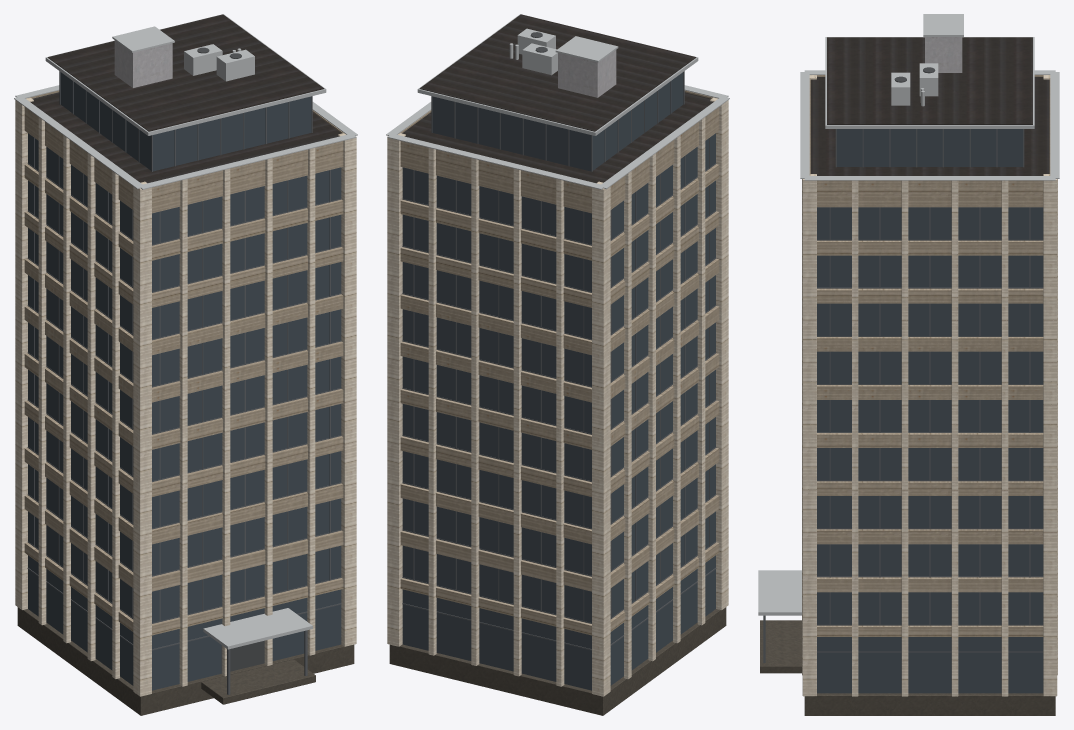
File: office-ribbon.glb
3 views of the same model, side by side, from view 1: azimuth 30°, elevation 25°; view 2: azimuth 150°, elevation 25°; view 3: azimuth 270°, elevation 25° (orthographic).
Parts seen in each view (by area): view 1: office-ribbon-plaster0; view 2: office-ribbon-plaster0; view 3: office-ribbon-plaster0.
Boxes of the visible parts, x1,y1,x2,y2 form: office-ribbon-plaster0: [14, 14, 357, 715]; office-ribbon-plaster0: [386, 14, 729, 715]; office-ribbon-plaster0: [758, 14, 1059, 715].
Size of the model in its own units: 16.6 by 43.86 by 19.3.
Materials: 9 (5 with a texture image).
